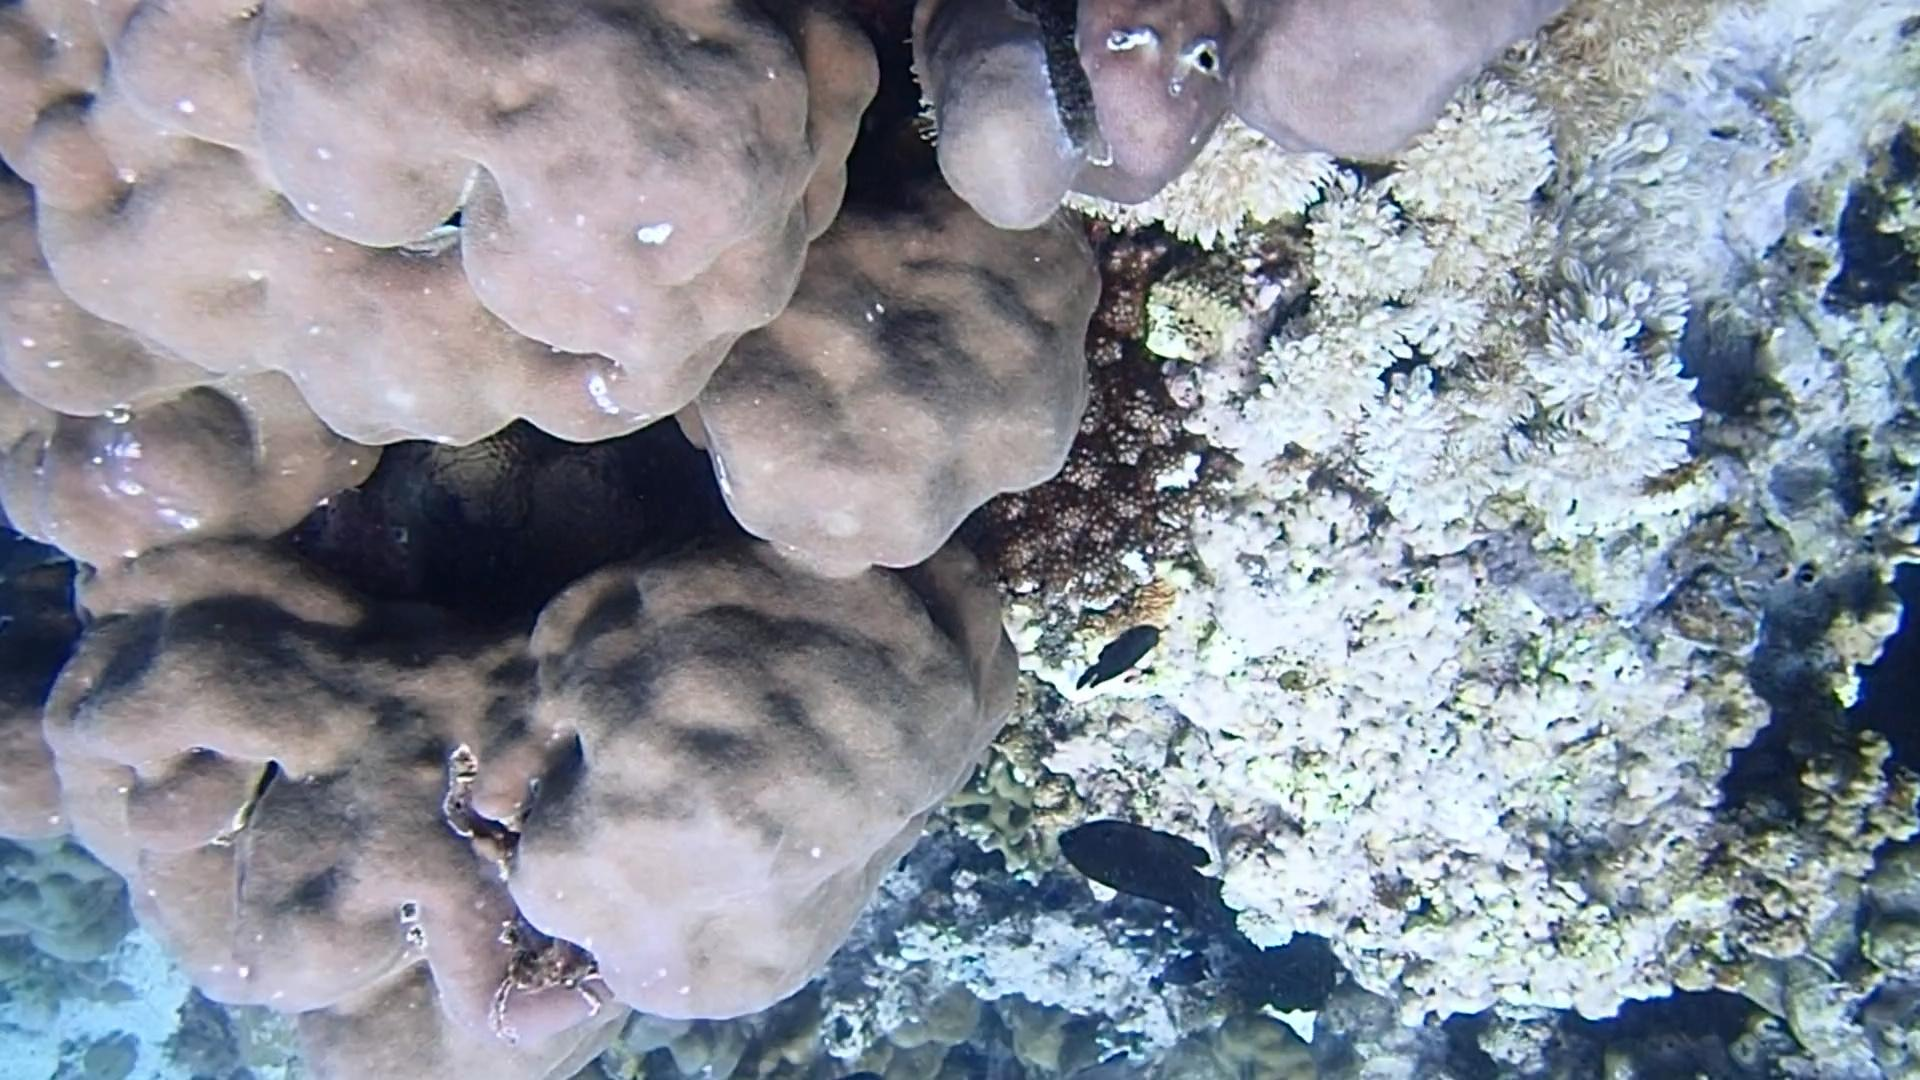Dark Fish: (1048, 806, 1226, 927), (1065, 613, 1172, 699), (1158, 944, 1217, 992), (1034, 887, 1076, 914)
